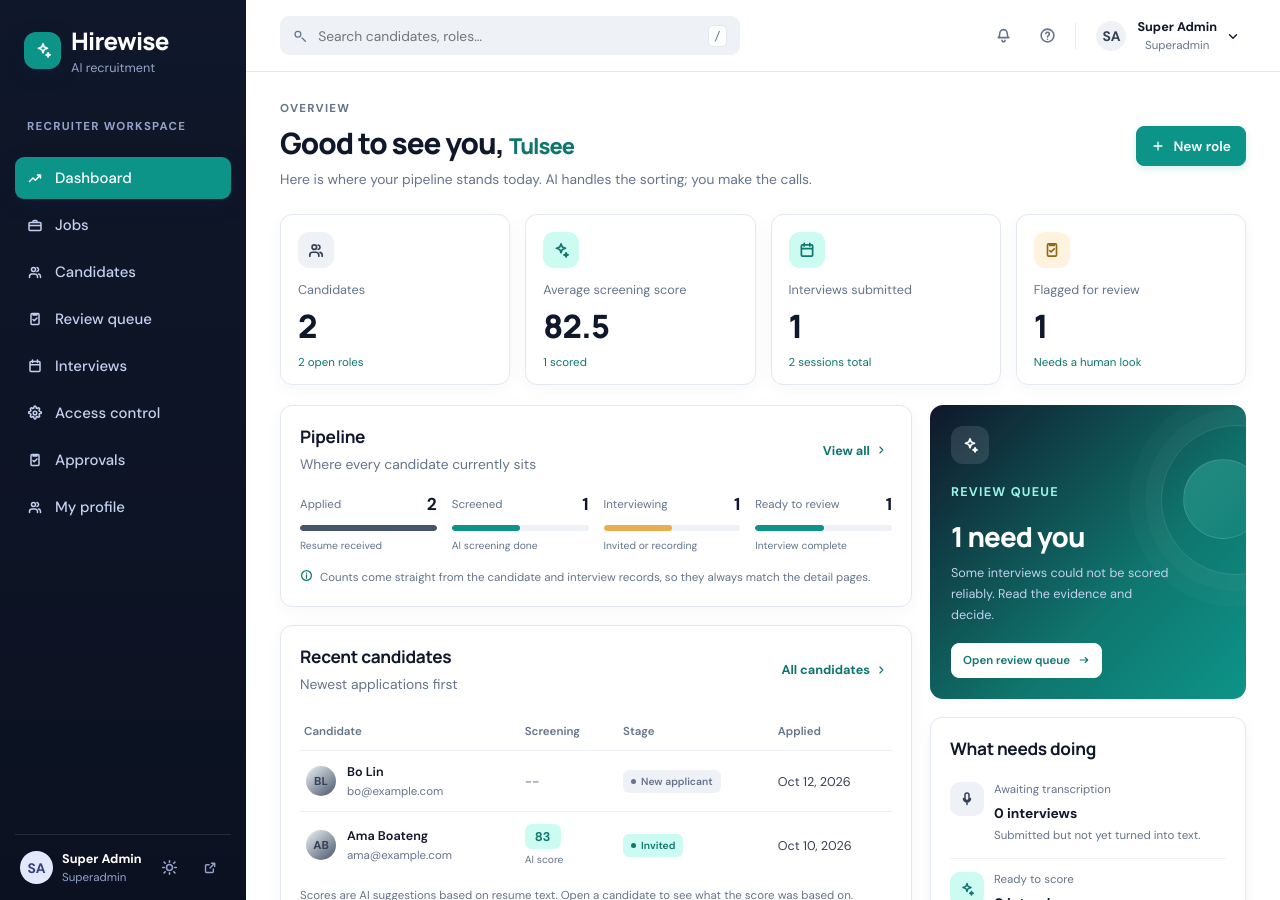
Test case: what a role can see › signs out back to the login screen
Click the button named "sign out" at x=210, y=868, box [194,852,226,884]
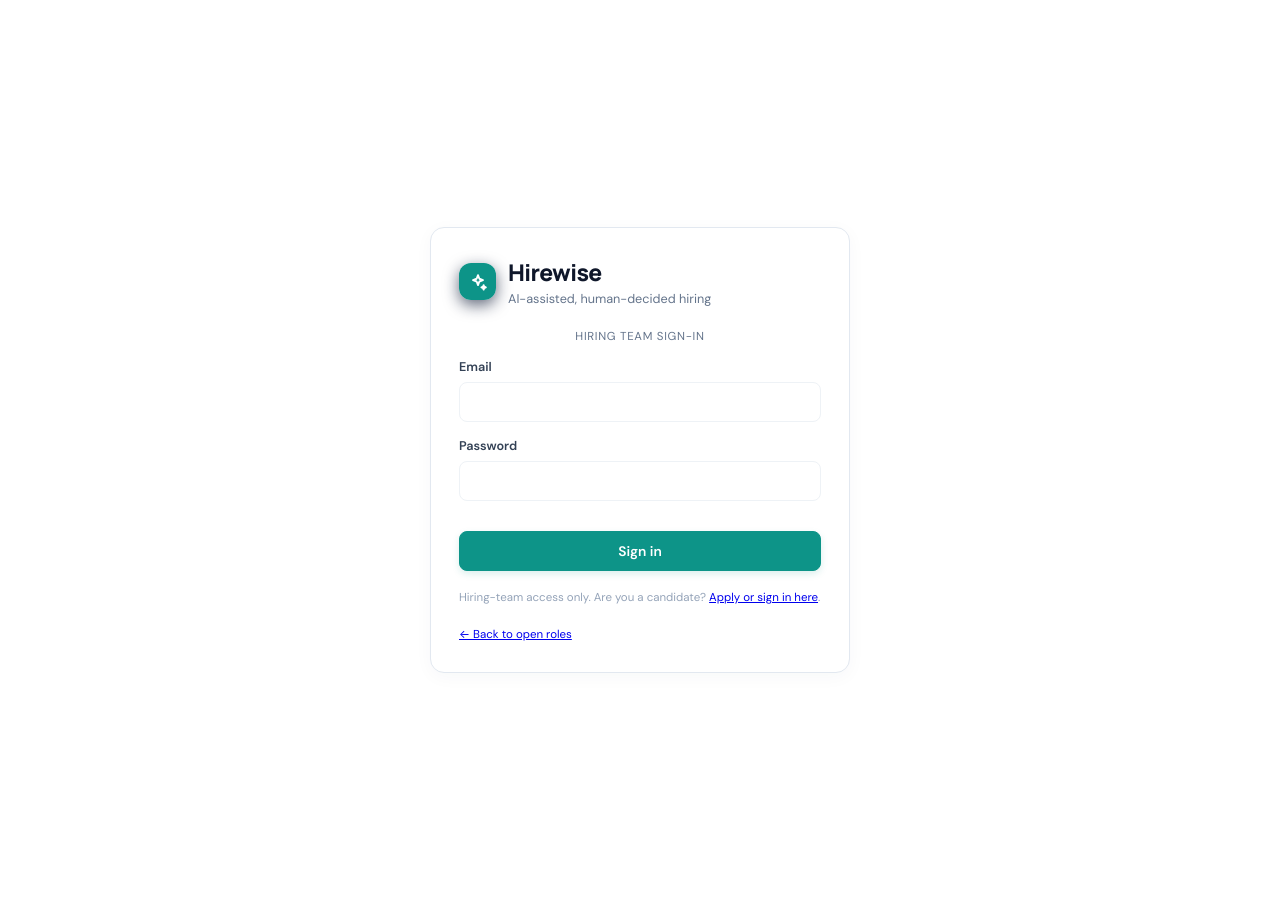
Result: the button "Sign in" is shown at [459,531,821,571]
